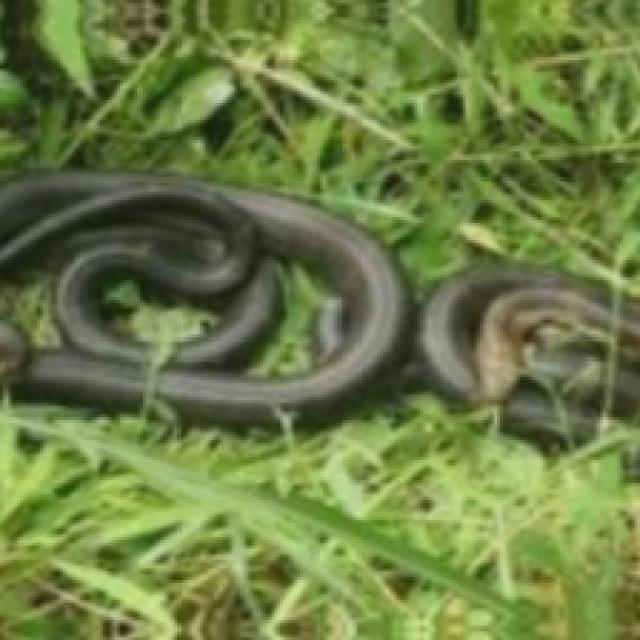king cobra: (0, 171, 637, 443)
